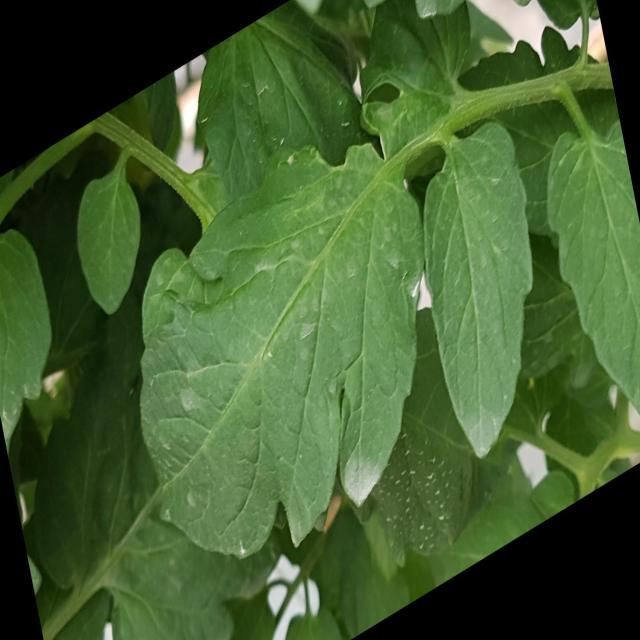Healthy Leaf: (130, 128, 429, 556), (428, 98, 537, 477), (545, 95, 640, 452)
